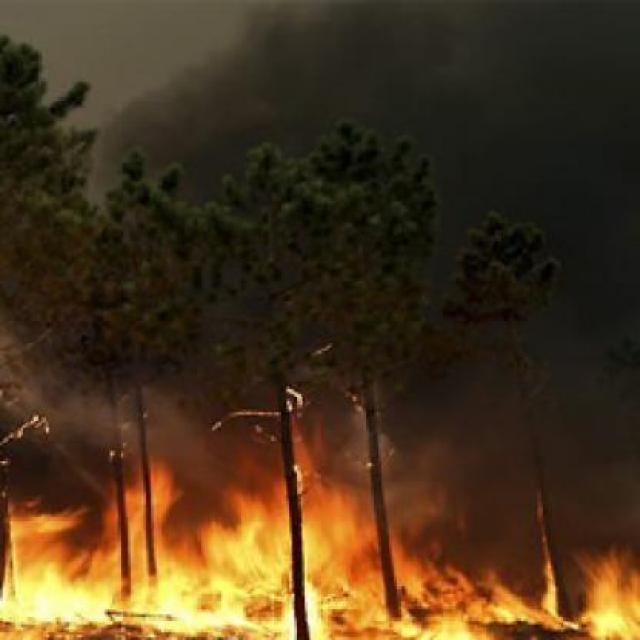Fire: (0, 444, 335, 640), (296, 527, 640, 640)
